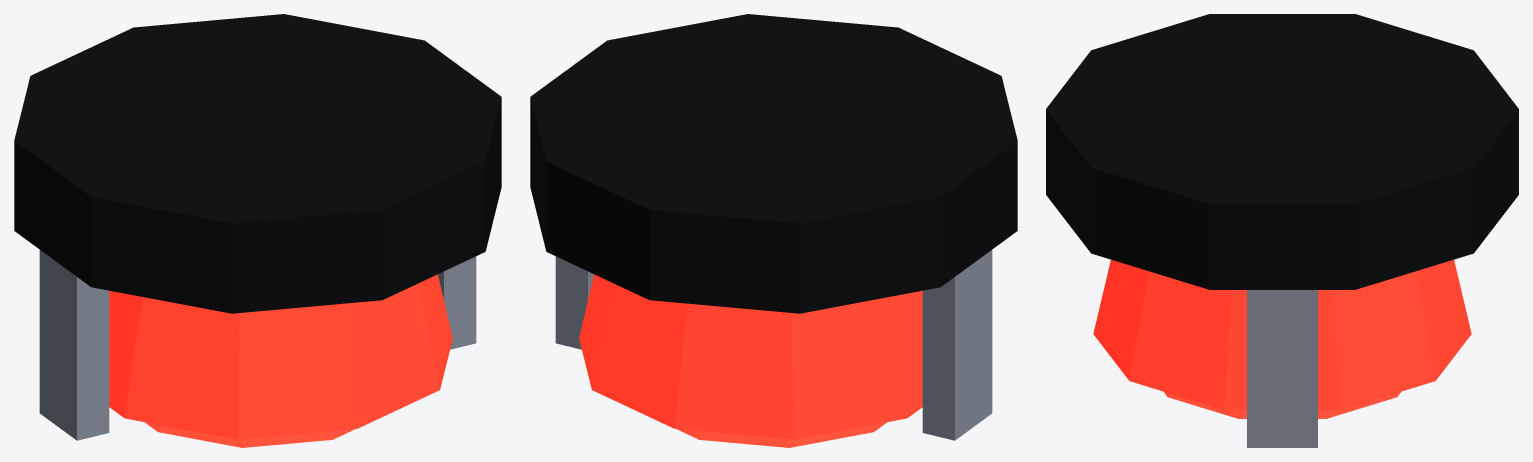
The model's file is SM_Light_Beacon_Red.glb.
3 renders of one model, left to right at view 1: azimuth 30°, elevation 25°; view 2: azimuth 150°, elevation 25°; view 3: azimuth 270°, elevation 25°, orthographic. The views are drawn at different scales.
Visible parts, largest first — view 1: SM_Light_Beacon_Red; view 2: SM_Light_Beacon_Red; view 3: SM_Light_Beacon_Red.
Boxes of the visible parts, x1,y1,x2,y2 form: SM_Light_Beacon_Red: (14,14,501,447); SM_Light_Beacon_Red: (530,14,1017,447); SM_Light_Beacon_Red: (1046,14,1518,447).
Bounding box in the file's own units: 0.1902 × 0.118 × 0.2.
